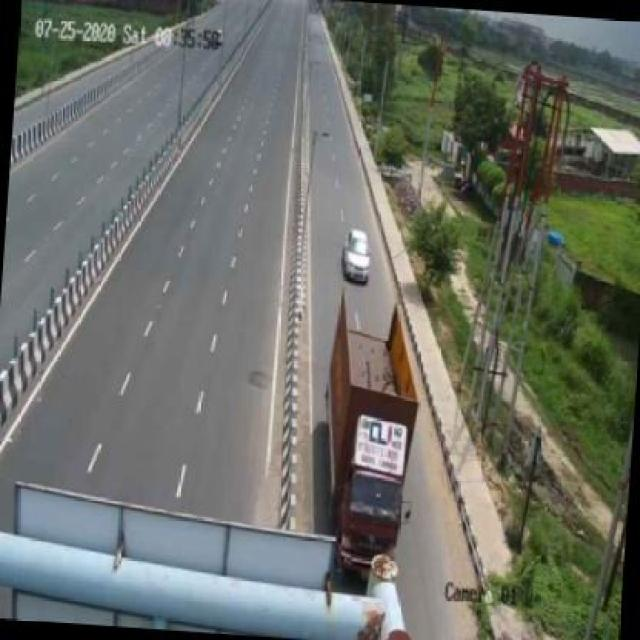car: (338, 222, 380, 288)
